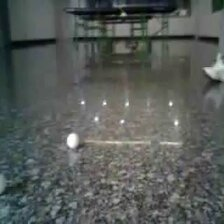w: (66, 133, 79, 149)
